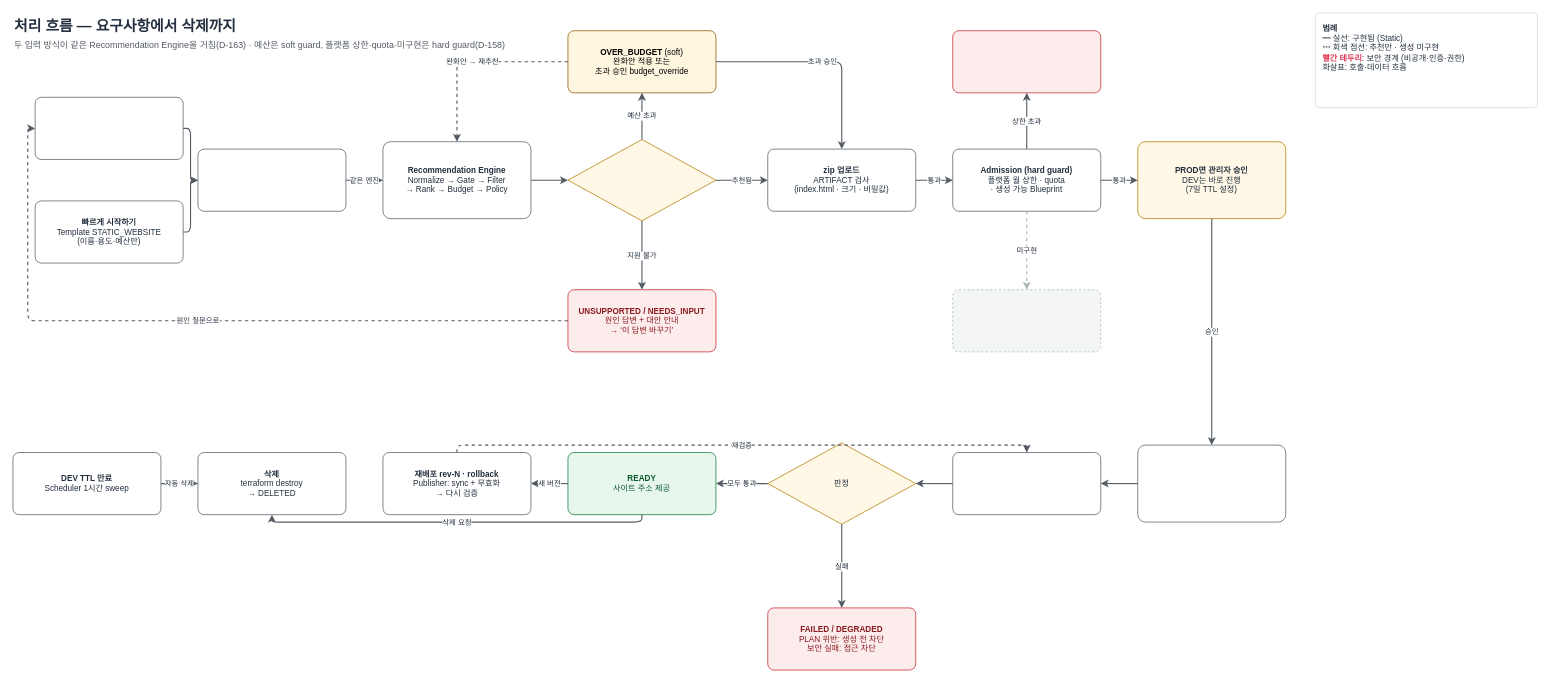
Some shapes in this 1550 by 683 pixel diagram are drawn without their labels. Each missing label, with the centre of its shape:
PROVISIONING CodeBuild: init → plan → PLAN 검증 → apply → 배포: (x=1211, y=483)
Requirement Model 답변 또는 Template 기본값 → 같은 Raw Input: (x=271, y=179)
Serverless / Container 추천만 · 생성 미구현 UNSUP_BLUEPRINT_NOT_YET: (x=1026, y=320)
VALIDATING Worker: STATE · HTTP 검증: (x=1026, y=483)
결과 상태: (x=641, y=180)
맞춤형으로 만들기 프리셋 → 질문 8개: (x=108, y=128)
차단 (override 불가) BUD_PLATFORM_CAP · quota: (x=1026, y=61)
